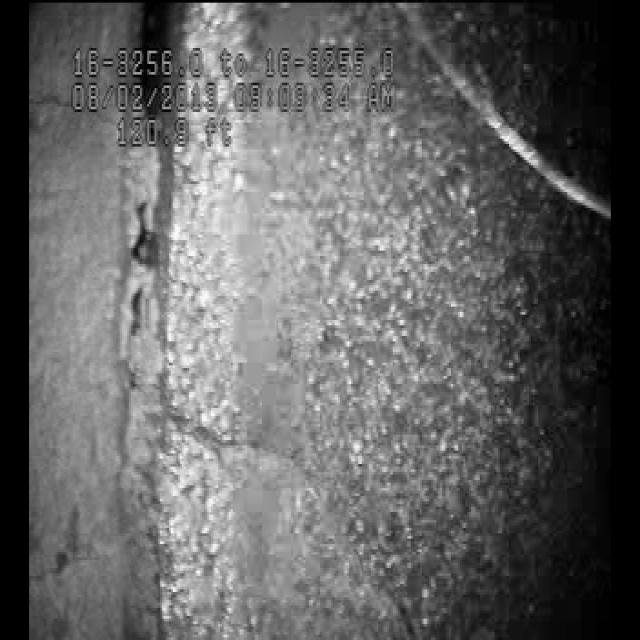Fracture: (108, 178, 222, 596)
